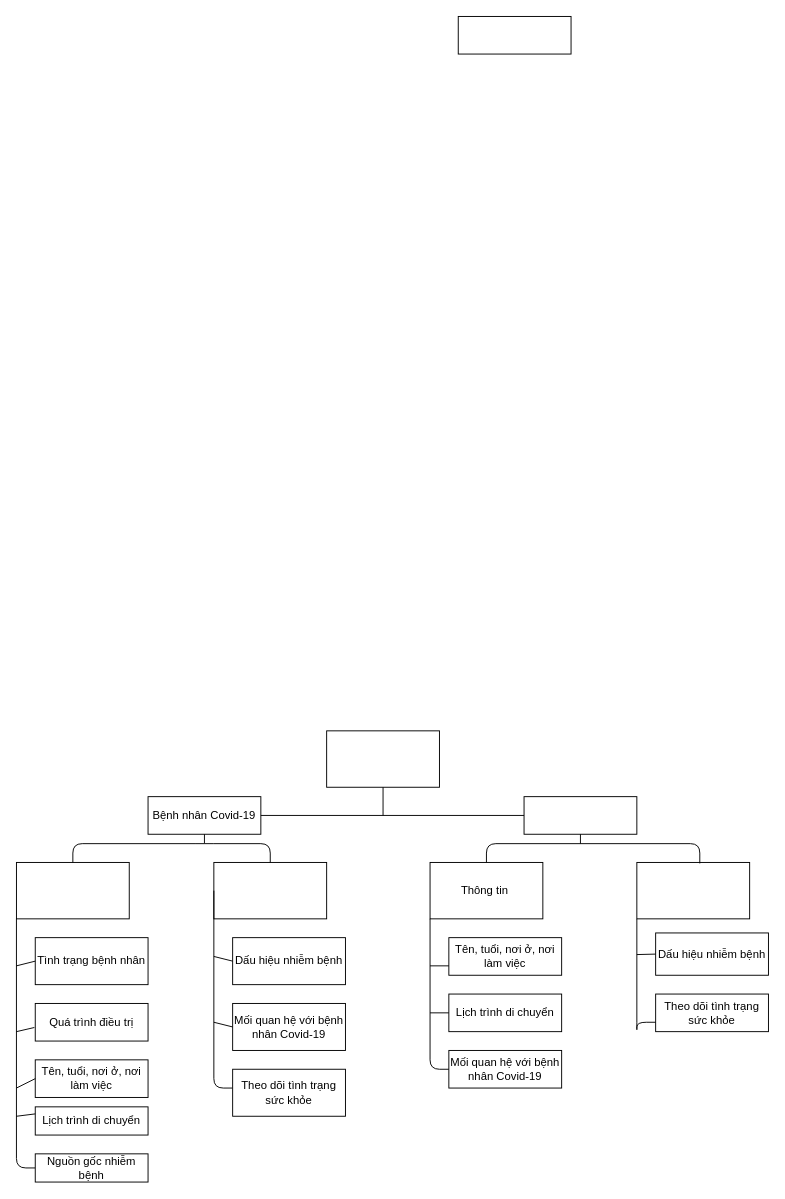
Some shapes in this 785 by 1199 pixel diagram are drawn without their labels. Here are the shapes that lost their labels. From the top down, the centre of each, then its label:
At pixel 382 758: "Hệ thống quản lý bệnh nhân Covid-19".
At pixel 580 815: "Người nghi ngờ bị nhiễm Covid-19".
At pixel 72 890: "Thông tin bệnh nhân".
At pixel 270 890: "Những người liên quan đến bệnh nhân Covid-19".
At pixel 693 890: "Tình trạng sức khỏe".
